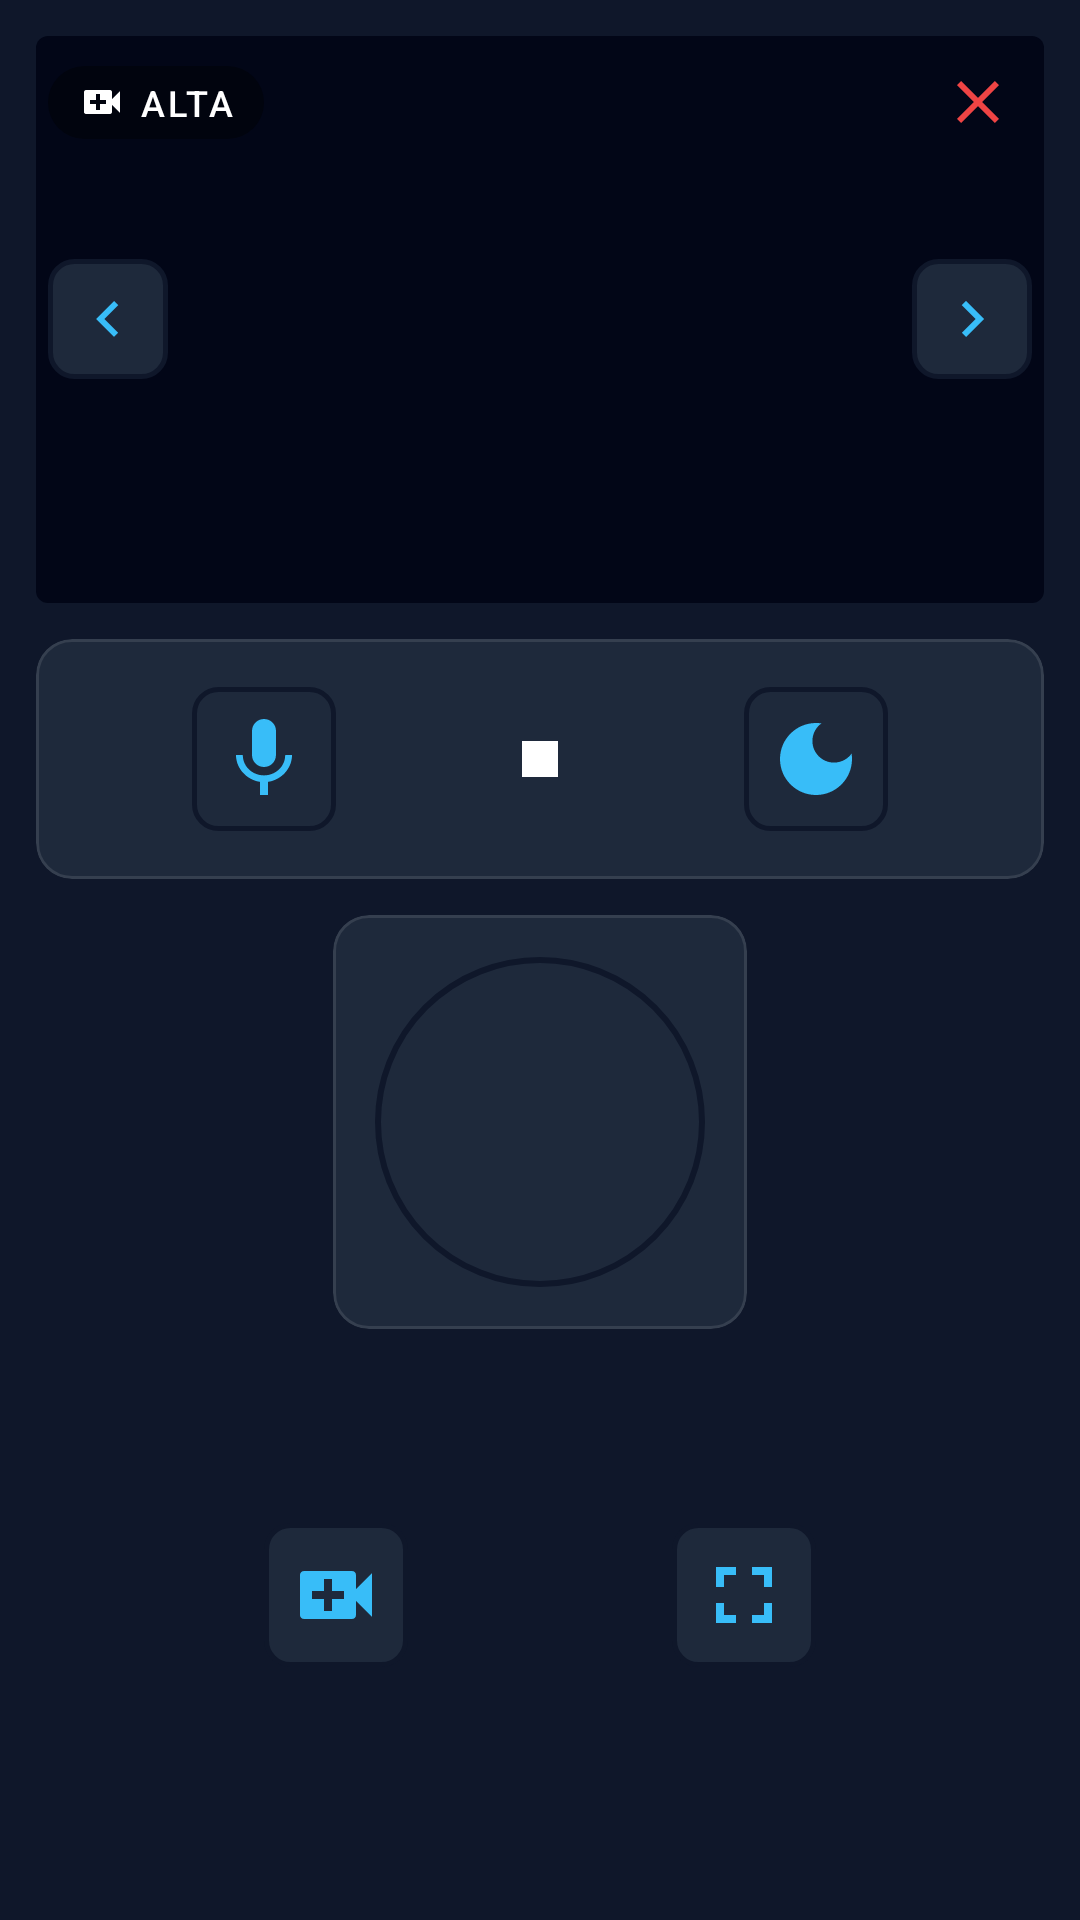

Where icons sit on this 1080×1920 app screen, as (x1, y1, x2, y2):
Feed anterior: (53, 264, 163, 374)
Feed siguiente: (917, 264, 1027, 374)
Microfono: (236, 719, 292, 795)
Modo noche: (780, 723, 852, 795)
Pantalla completa: (677, 1528, 811, 1662)
Quitar camara: (957, 81, 999, 123)
